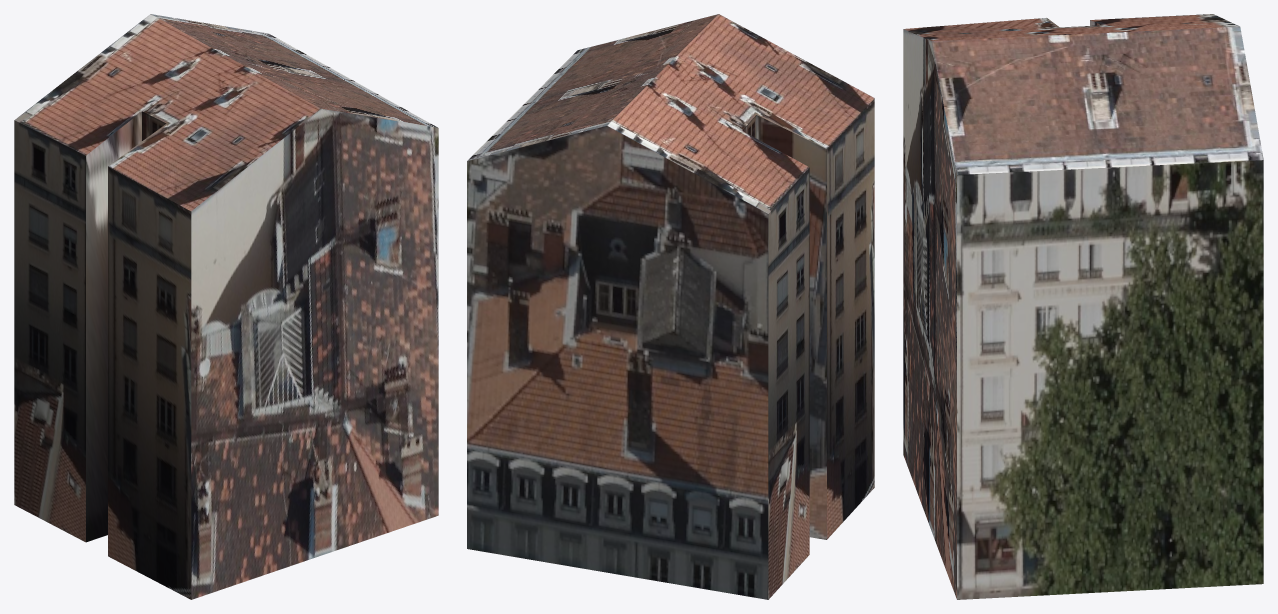
3 renders of one model, left to right at view 1: azimuth 30°, elevation 25°; view 2: azimuth 150°, elevation 25°; view 3: azimuth 270°, elevation 25°, orthographic. The views are drawn at different scales.
Parts seen in each view (by area): view 1: Z_UP; view 2: Z_UP; view 3: Z_UP.
Part boxes in pixels (x1,y1,x2,y2): Z_UP: (14,14,438,599); Z_UP: (467,14,874,599); Z_UP: (903,14,1263,599).
Bounding box in the file's own units: 19.62 × 27.27 × 18.19.
Materials: 2 (1 with a texture image).
